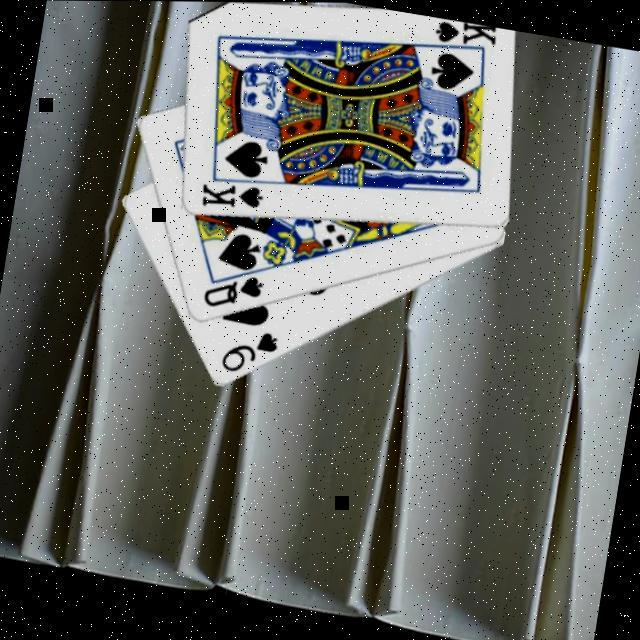9S: (218, 323, 285, 384)
KS: (426, 16, 502, 63), (197, 178, 269, 221)
QS: (200, 269, 270, 320)
